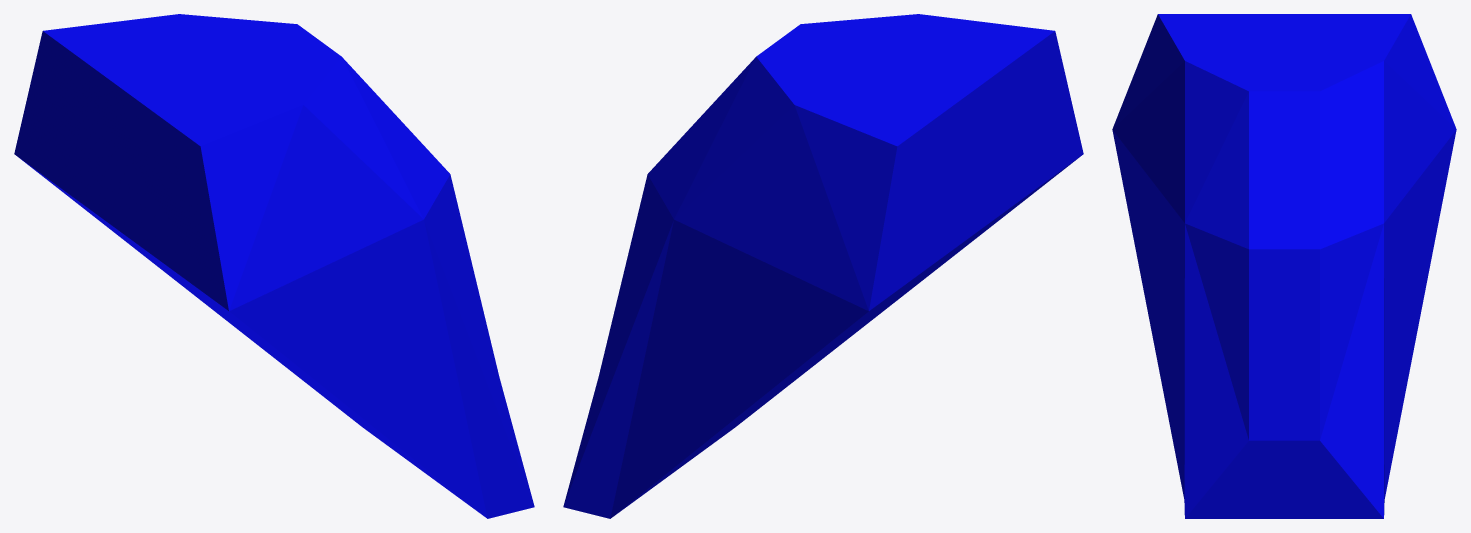
Rendered from RArm.obj.
3 views of the same model, side by side, from view 1: azimuth 30°, elevation 25°; view 2: azimuth 150°, elevation 25°; view 3: azimuth 270°, elevation 25° (orthographic). The views are drawn at different scales.
Visible parts, largest first — view 1: RArm_立方体.004; view 2: RArm_立方体.004; view 3: RArm_立方体.004.
Part boxes in pixels (bbox=[...]): RArm_立方体.004: bbox=[14, 14, 534, 518]; RArm_立方体.004: bbox=[563, 14, 1083, 518]; RArm_立方体.004: bbox=[1112, 14, 1456, 518].
Size of the model in its own units: 0.8905 by 1.1 by 0.9316.
1 material, 1 textured.
